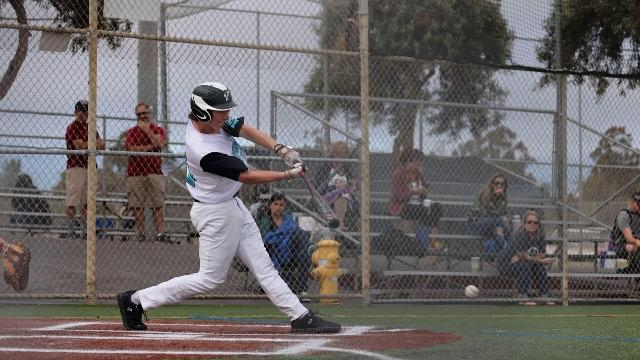baseball bat: (294, 163, 342, 229)
sports ball: (464, 286, 480, 300)
